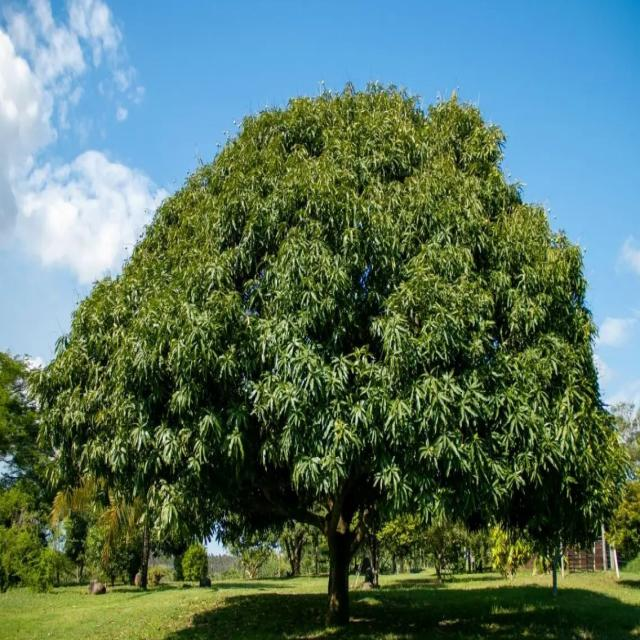Mango-Tree: (36, 73, 630, 598)
